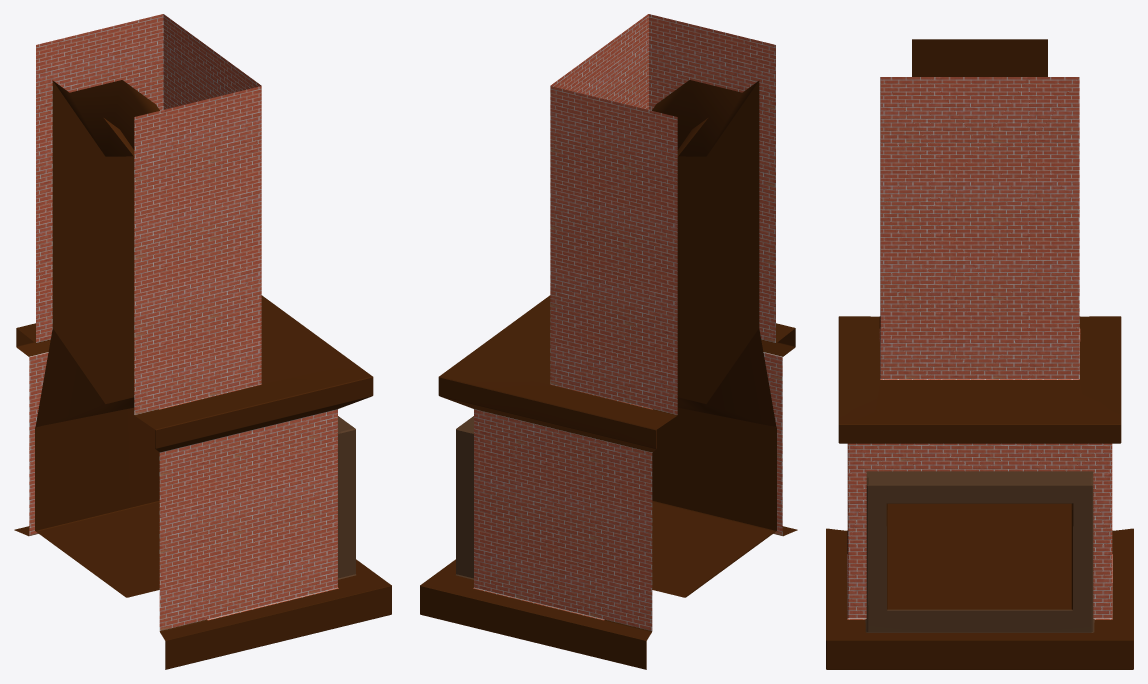
File: Chimney.fbx
3 views of the same model, side by side, from view 1: azimuth 30°, elevation 25°; view 2: azimuth 150°, elevation 25°; view 3: azimuth 270°, elevation 25° (orthographic).
Parts seen in each view (by area): view 1: pCube32; view 2: pCube32; view 3: pCube32.
Part boxes in pixels (x1,y1,x2,y2): pCube32: [14, 14, 391, 669]; pCube32: [420, 14, 797, 669]; pCube32: [826, 39, 1133, 669].
Bounding box in the file's own units: 127 × 275 × 142.
2 materials, 2 textured.
